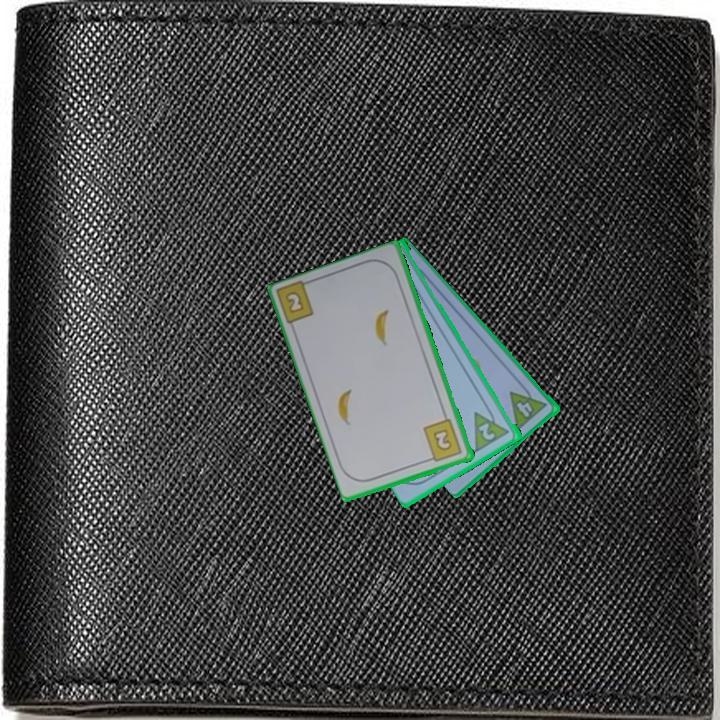2b: (420, 416, 465, 465), (282, 288, 307, 316)
2p: (475, 419, 498, 443)
4p: (506, 380, 550, 433)
